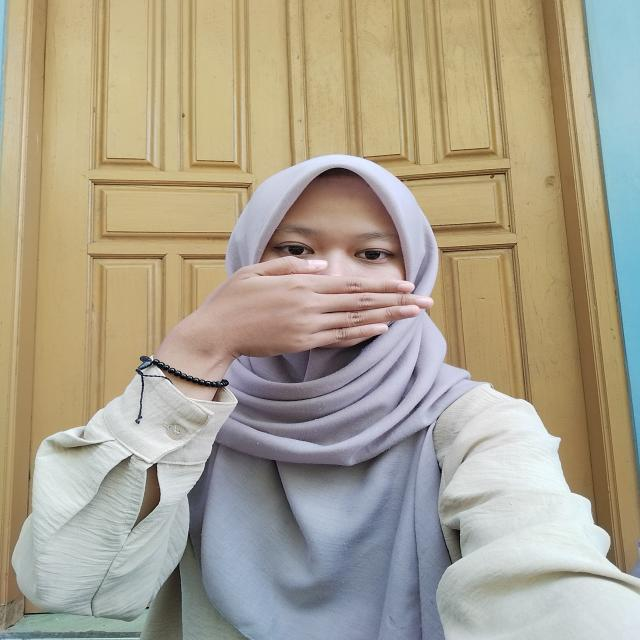buruk: (160, 248, 434, 372)
